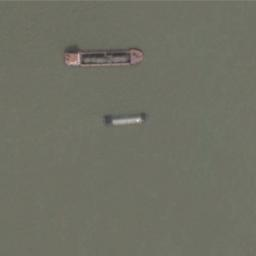boat: (62, 47, 145, 68), (100, 110, 148, 126)
